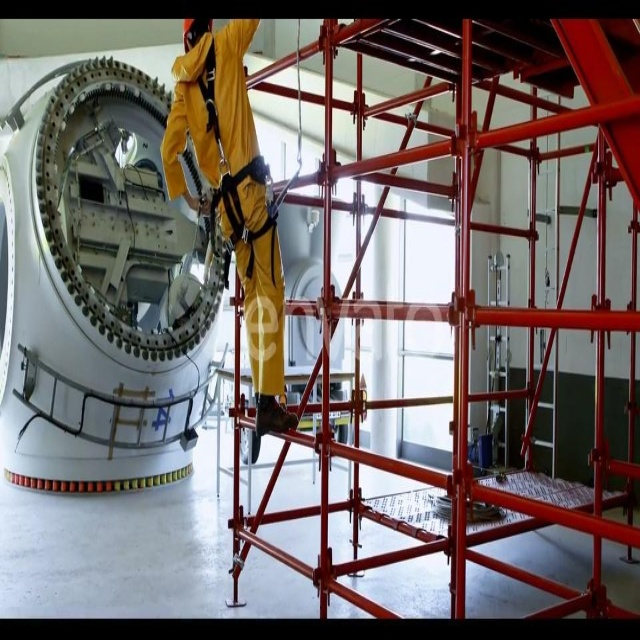Arnes_seguridad: (186, 33, 283, 293)
